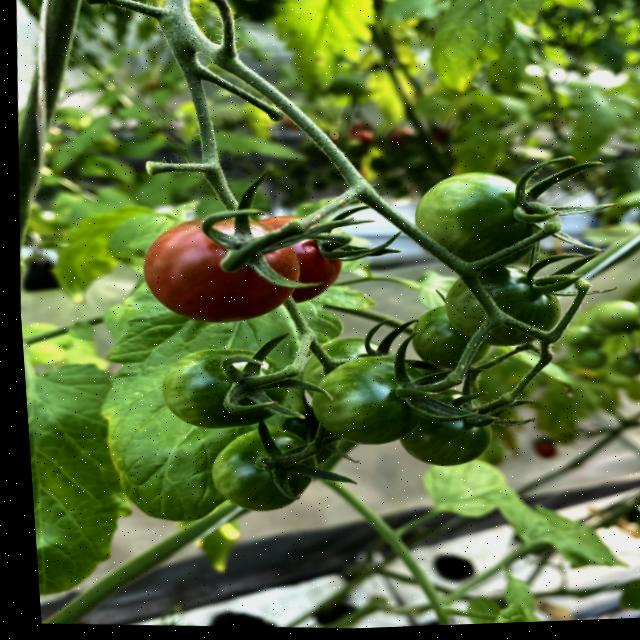ripe0: (417, 169, 541, 259), (162, 348, 287, 427), (313, 355, 421, 444), (211, 428, 317, 512)
ripe2: (148, 213, 301, 322)
